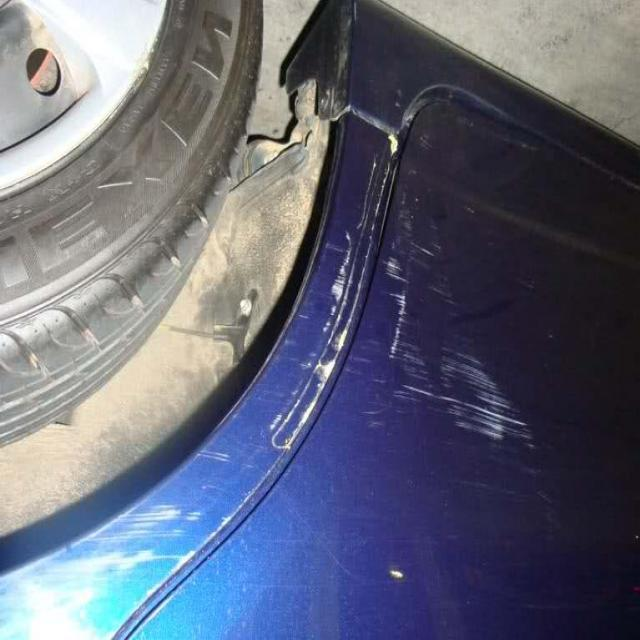scratch: (232, 126, 557, 462), (0, 487, 193, 640)
